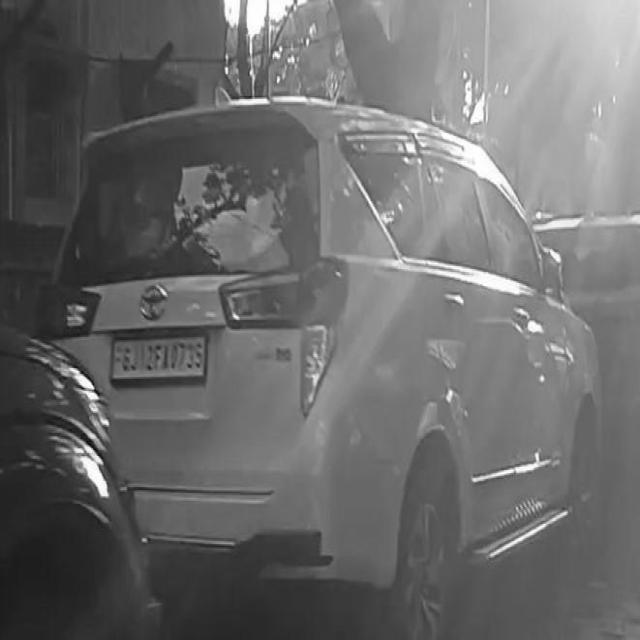car: (37, 97, 605, 640)
license-plate: (109, 332, 208, 380)
